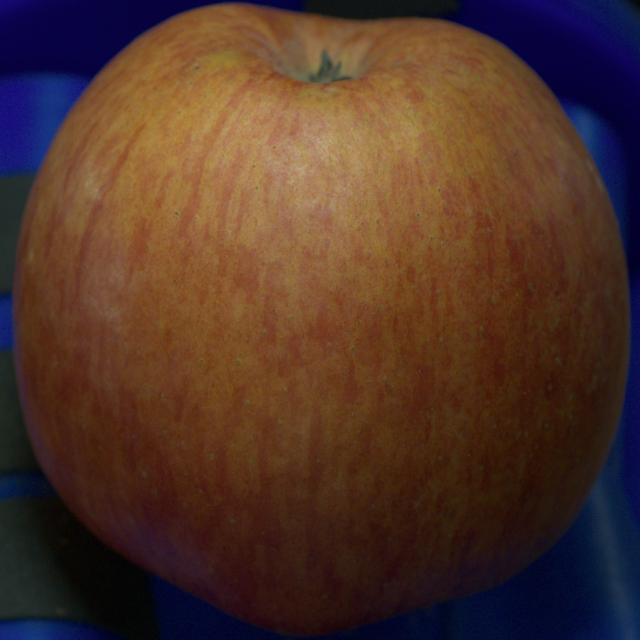apple: (13, 4, 629, 635)
